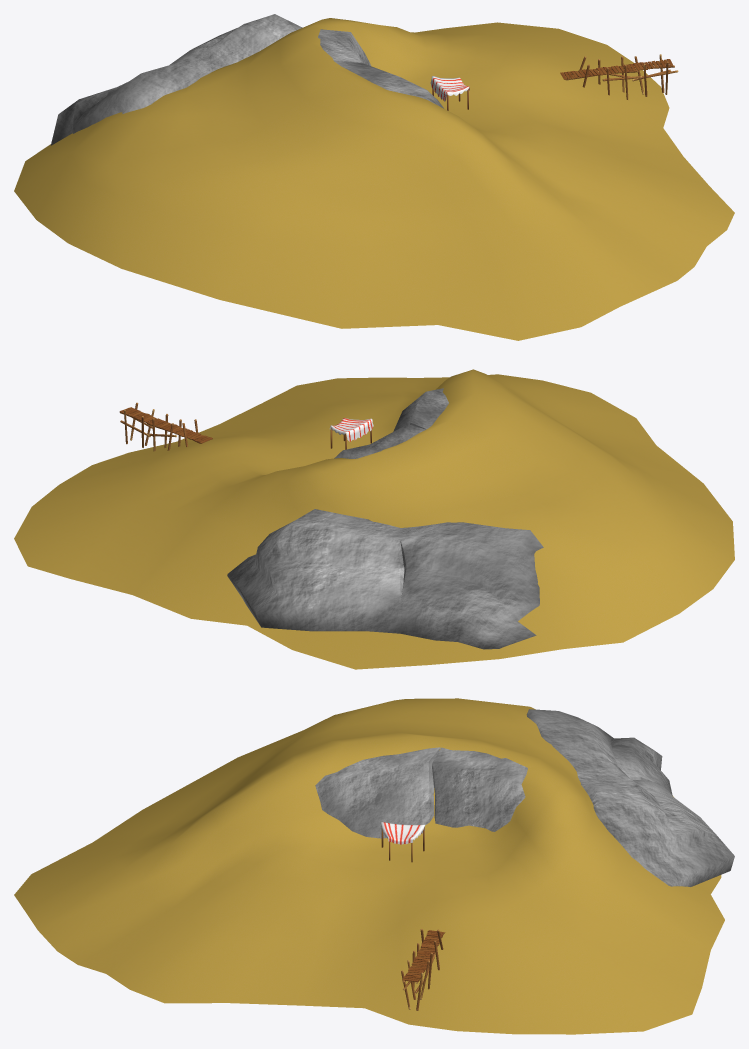
The model's file is Island_Scene.fbx.
The picture shows the model from 3 angles, top to bottom: view 1: azimuth 30°, elevation 25°; view 2: azimuth 150°, elevation 25°; view 3: azimuth 270°, elevation 25°; orthographic projection. The views are drawn at different scales.
Visible parts, largest first — view 1: Island, Rock_2, Rock, Scaffolding, Awning; view 2: Island, Rock_2, Rock, Scaffolding, Awning; view 3: Island, Rock_2, Rock, Scaffolding, Awning.
Boxes of the visible parts, x1=… form: Island: x1=14, y1=18, x2=734, y2=340; Rock_2: x1=50, y1=14, x2=302, y2=145; Rock: x1=318, y1=29, x2=443, y2=108; Scaffolding: x1=560, y1=54, x2=678, y2=100; Awning: x1=430, y1=76, x2=469, y2=110; Island: x1=14, y1=369, x2=734, y2=669; Rock_2: x1=227, y1=509, x2=543, y2=649; Rock: x1=334, y1=388, x2=448, y2=458; Scaffolding: x1=119, y1=402, x2=212, y2=451; Awning: x1=329, y1=418, x2=373, y2=449; Island: x1=14, y1=698, x2=724, y2=1034; Rock_2: x1=526, y1=709, x2=734, y2=886; Rock: x1=315, y1=747, x2=527, y2=838; Scaffolding: x1=401, y1=929, x2=445, y2=1010; Awning: x1=381, y1=822, x2=425, y2=862.
Bounding box in the file's own units: 10014 × 2097 × 9815.
